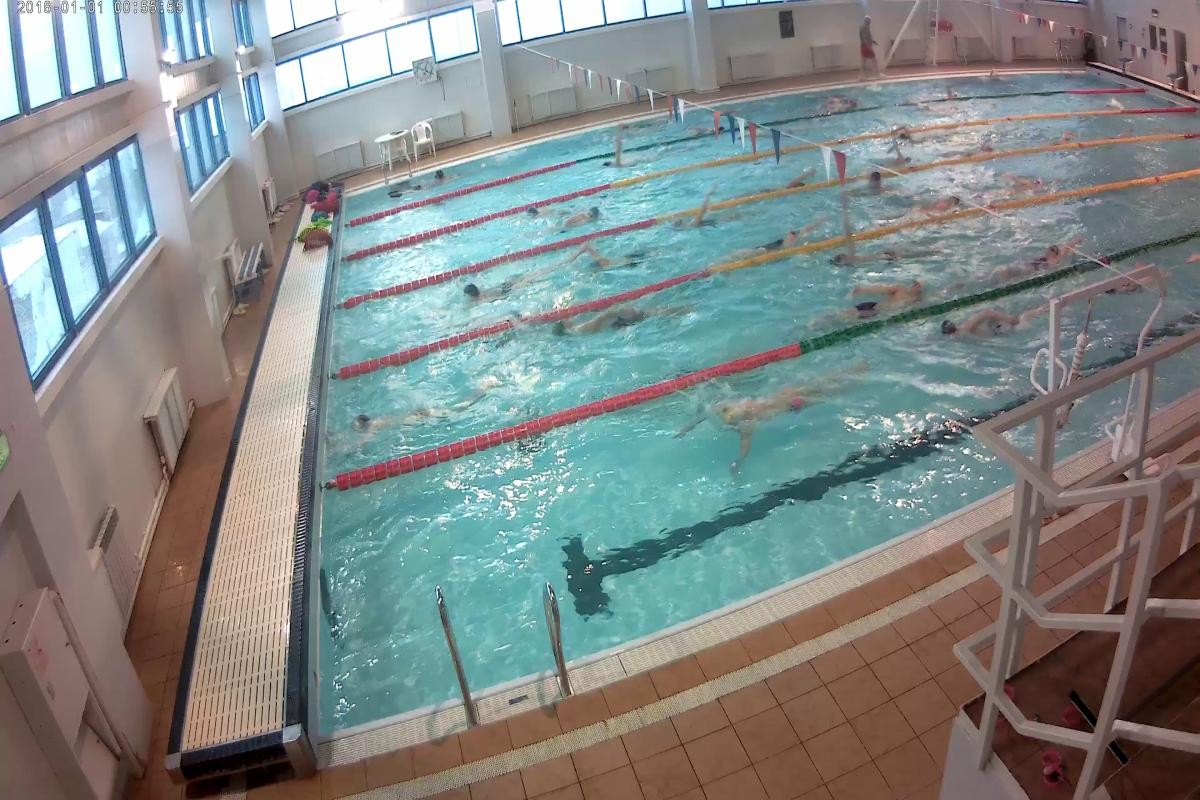swimmer: (702, 365, 876, 464), (355, 389, 470, 453), (546, 298, 687, 346), (988, 228, 1088, 288), (832, 275, 926, 326), (464, 266, 542, 312), (736, 216, 818, 257), (830, 238, 925, 273), (946, 305, 1030, 342), (568, 247, 637, 273), (560, 205, 606, 238), (999, 168, 1049, 196), (905, 195, 964, 218), (861, 164, 893, 196), (970, 136, 1001, 155), (888, 148, 920, 164), (518, 204, 554, 218), (1054, 127, 1078, 141)
